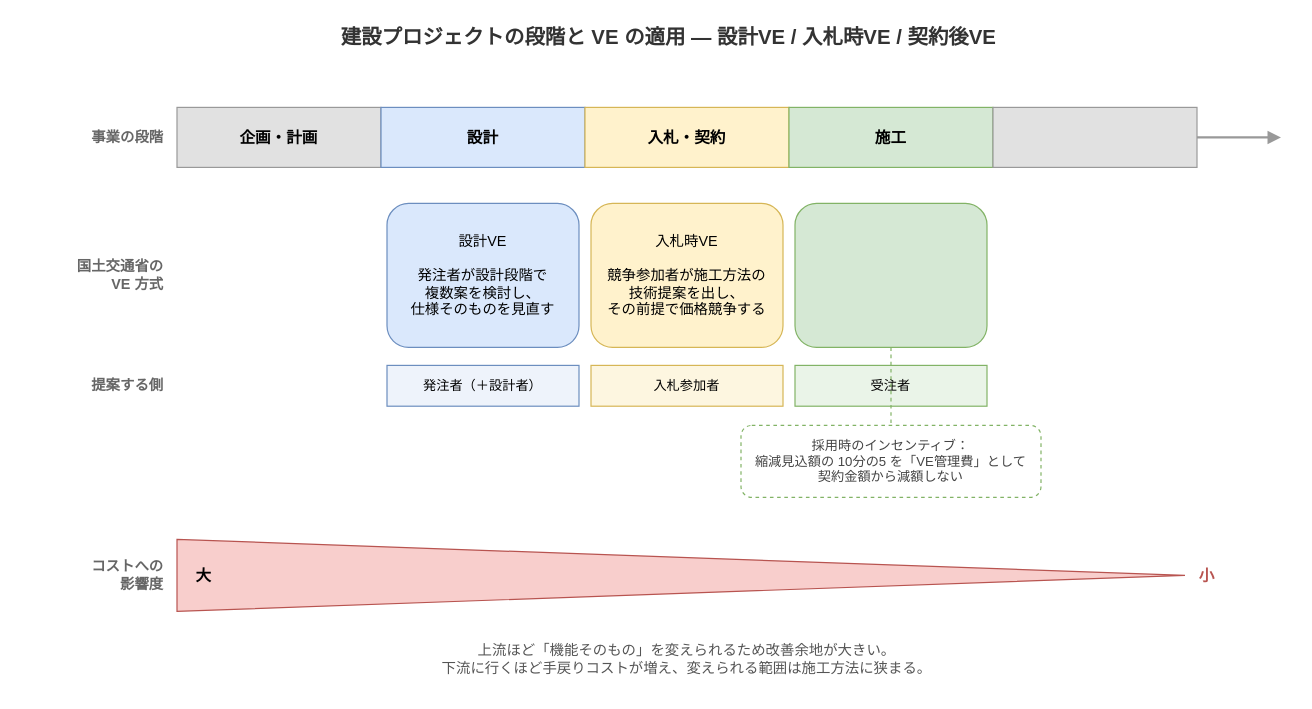
Some shapes in this 1312 by 709 pixel diagram are drawn without their labels. Each missing label, with the centre of its shape:
契約後VE 受注者が契約後に提案。 採用されれば設計図書と 契約金額を変更する: the point at 890,274
維持管理: the point at 1094,136
